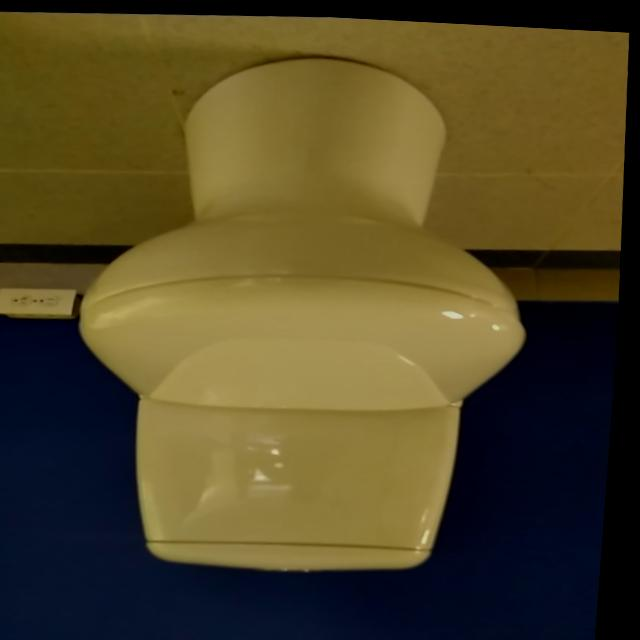toilet: (59, 37, 556, 586)
